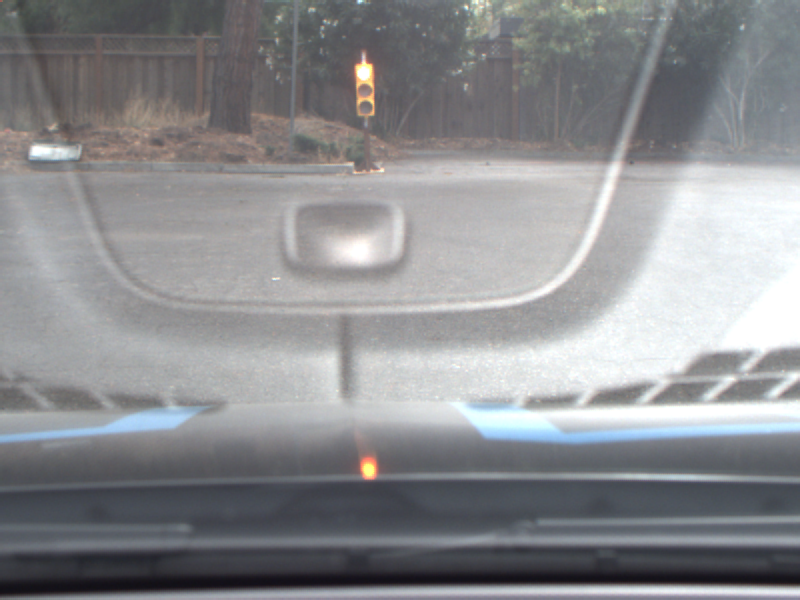red: (352, 62, 376, 117)
